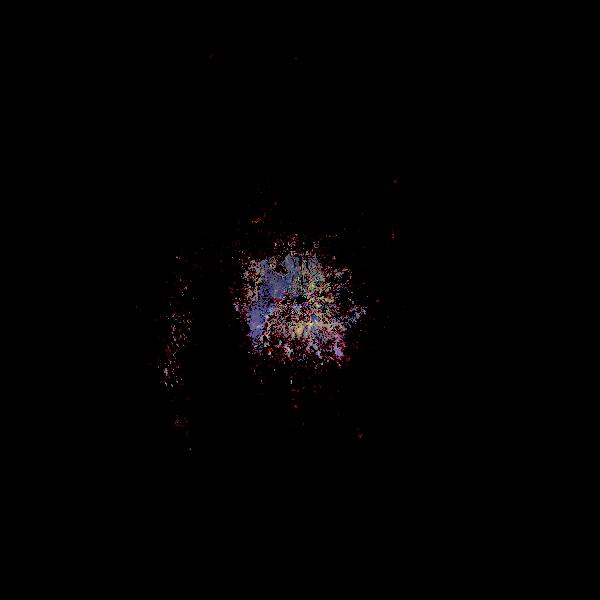roost: (186, 268, 420, 502)
